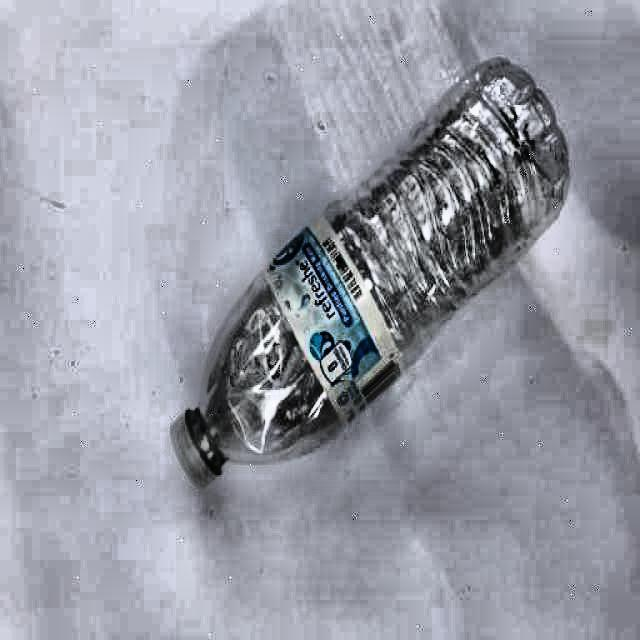plastic: (169, 59, 572, 490)
